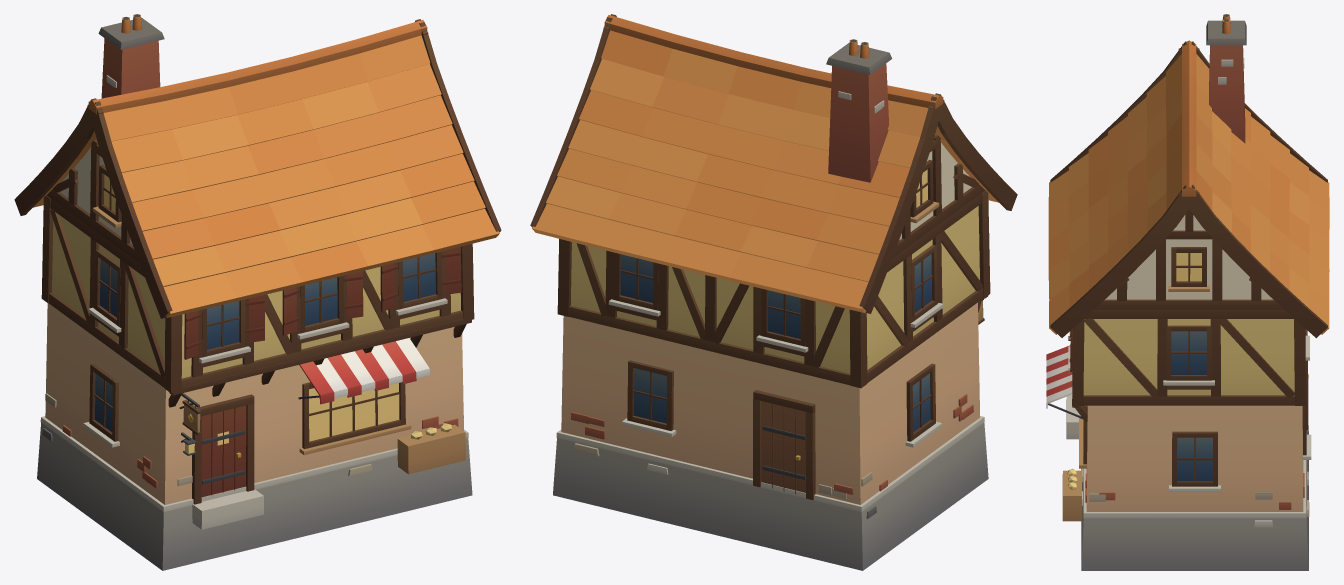
Rendered from house_05_bakery.glb.
3 renders of one model, left to right at view 1: azimuth 30°, elevation 25°; view 2: azimuth 150°, elevation 25°; view 3: azimuth 270°, elevation 25°, orthographic. The views are drawn at different scales.
Visible parts, largest first — view 1: house_05_bakery; view 2: house_05_bakery; view 3: house_05_bakery.
Part boxes in pixels (bbox=[...]): house_05_bakery: bbox=[14, 14, 501, 570]; house_05_bakery: bbox=[530, 14, 1017, 570]; house_05_bakery: bbox=[1046, 14, 1329, 570].
Size of the model in its own units: 30.03 by 41.49 by 24.34.
1 material, 1 textured.
